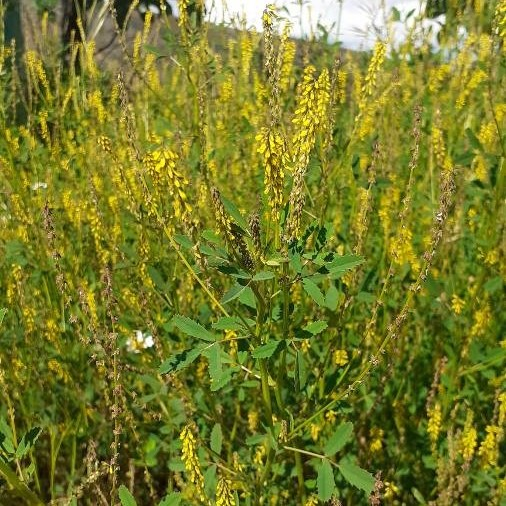obstacle: (65, 87, 480, 479)
